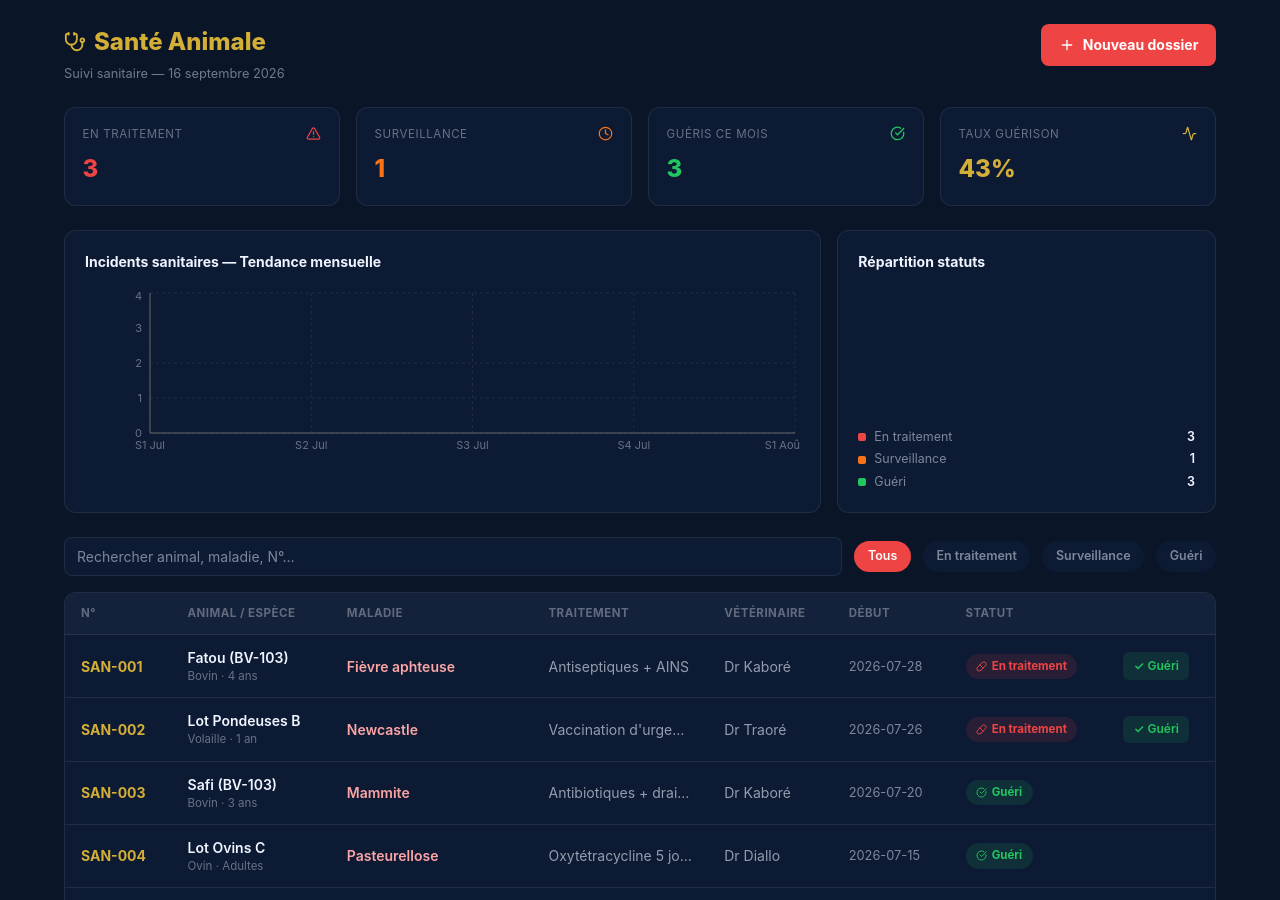
Scenario: SantePage › le filtre En traitement affiche seulement les dossiers en traitement
This screenshot has width=1280, height=900.
Click the button "En traitement".
click(977, 556)  # box x1=923 y1=540 x2=1030 y2=572
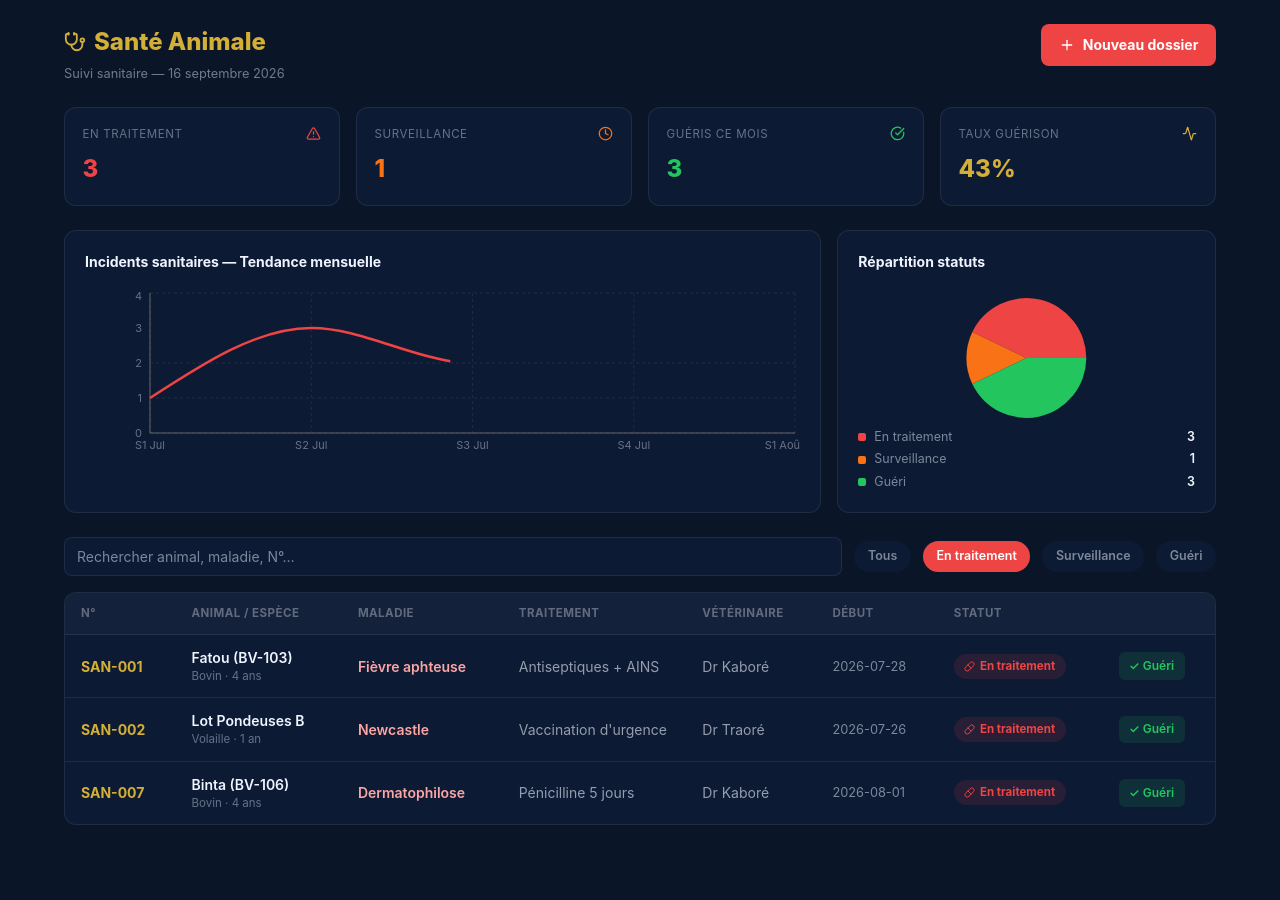
Expected: the text "SAN-001" is shown, x1=65 y1=635 x2=176 y2=698
Now the text "SAN-003" is gone
